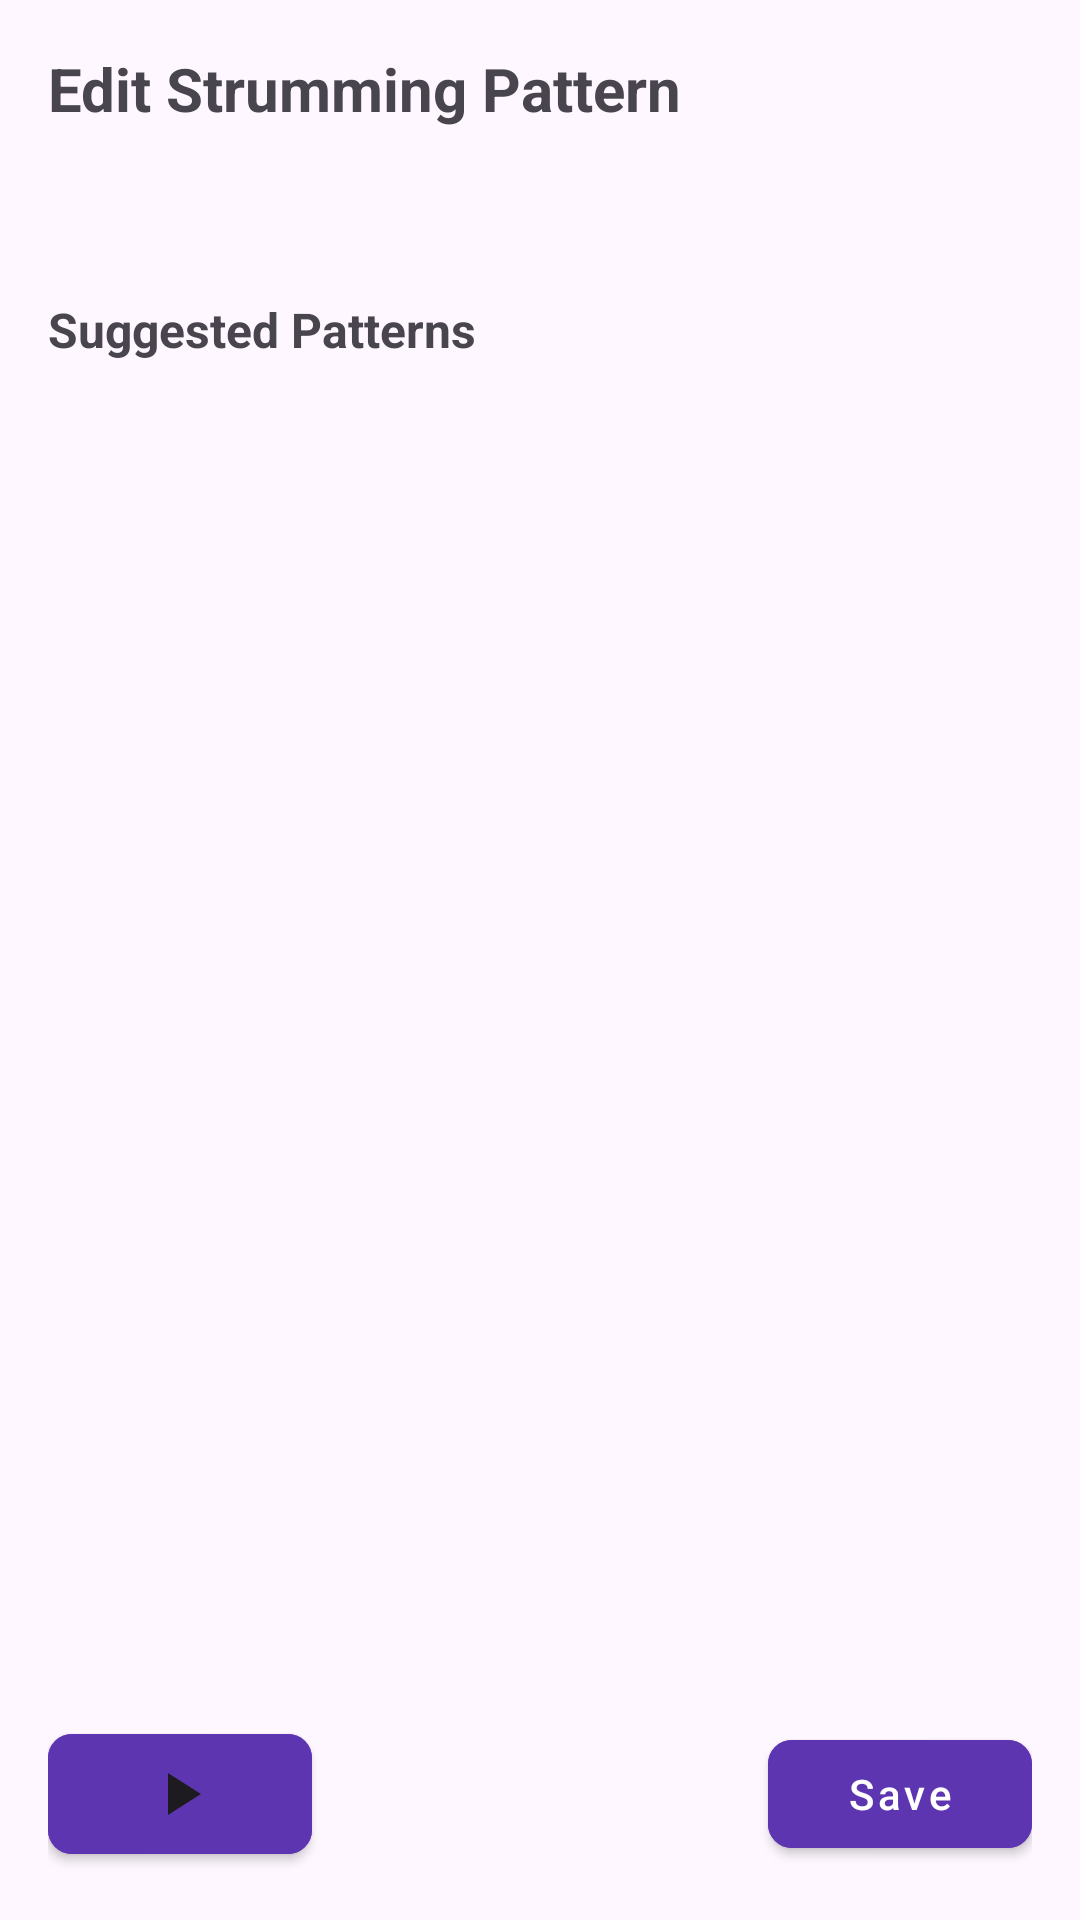

Icons on this 1080px x 1920px Android screen, each with the point to tap as (x,y):
play arrow: (180,1797)
